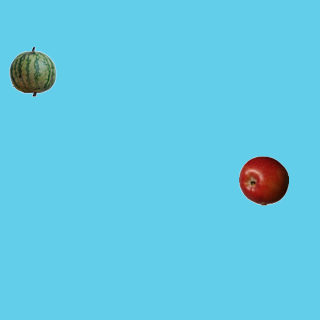Apple Braeburn: (238, 155, 288, 205)
Watermelon: (7, 46, 57, 96)
